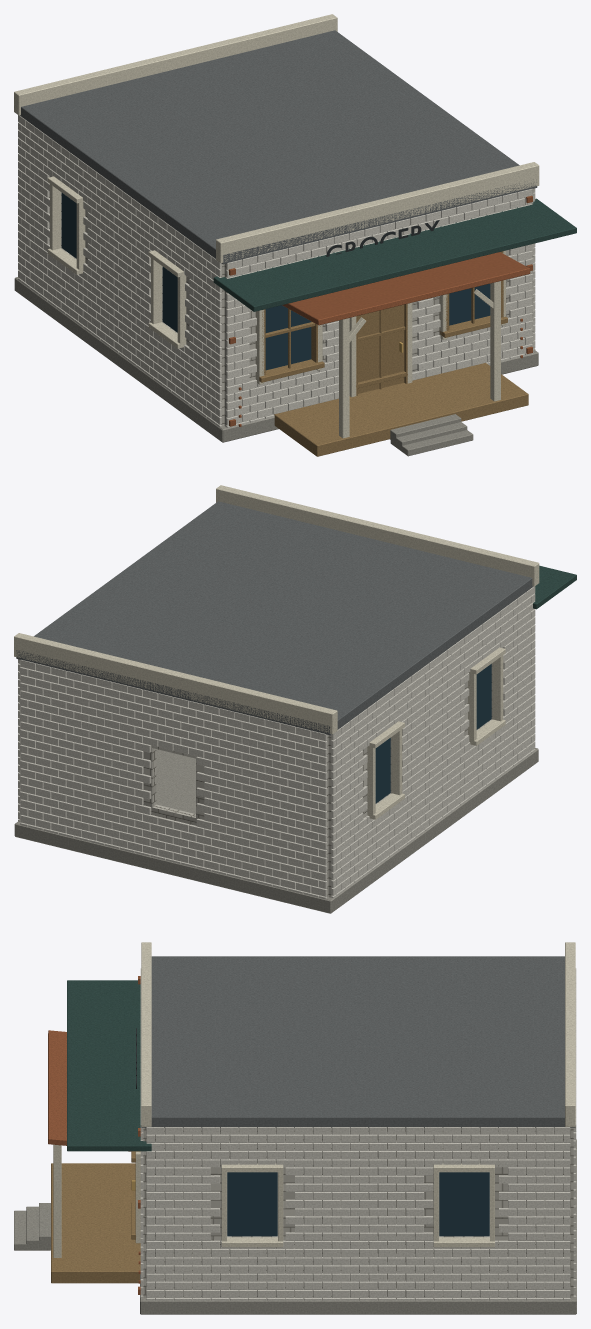
Rendered from SHOPD2_lod0.glb.
The picture shows the model from 3 angles, top to bottom: view 1: azimuth 30°, elevation 25°; view 2: azimuth 150°, elevation 25°; view 3: azimuth 270°, elevation 25°; orthographic projection. The views are drawn at different scales.
Parts seen in each view (by area): view 1: SHOPD2_LOD0; view 2: SHOPD2_LOD0; view 3: SHOPD2_LOD0.
Part boxes in pixels (x1=…): SHOPD2_LOD0: x1=14, y1=14, x2=576, y2=456; SHOPD2_LOD0: x1=14, y1=485, x2=576, y2=913; SHOPD2_LOD0: x1=14, y1=942, x2=576, y2=1314.
Bounding box in the file's own units: 7.51 × 4.38 × 10.62.
Materials: 15 (12 with a texture image).
